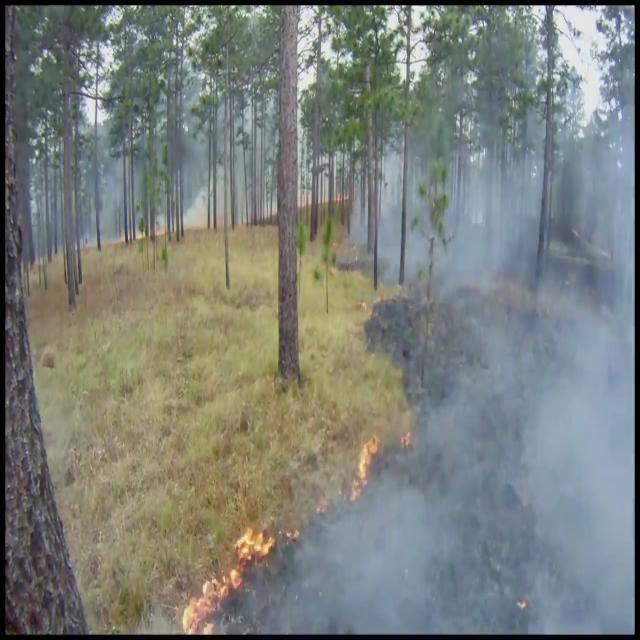Fire: (184, 520, 264, 628), (354, 427, 384, 489)
Smoke: (388, 38, 634, 632), (241, 466, 523, 634)
